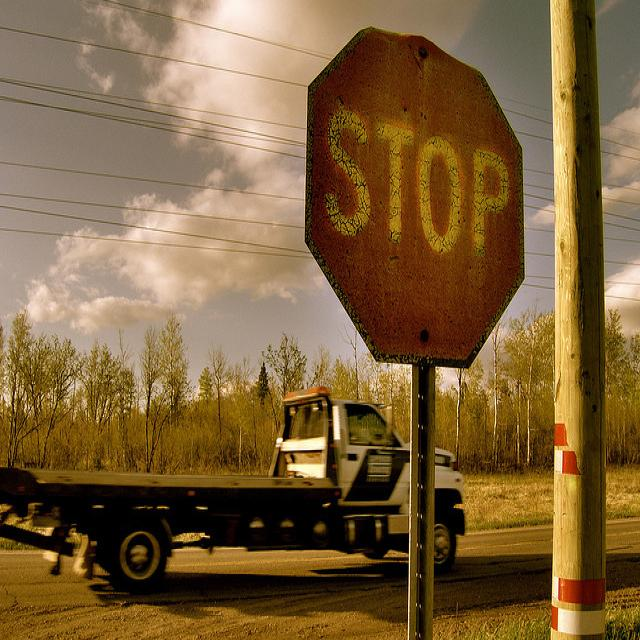Vehicle: (0, 380, 470, 585)
